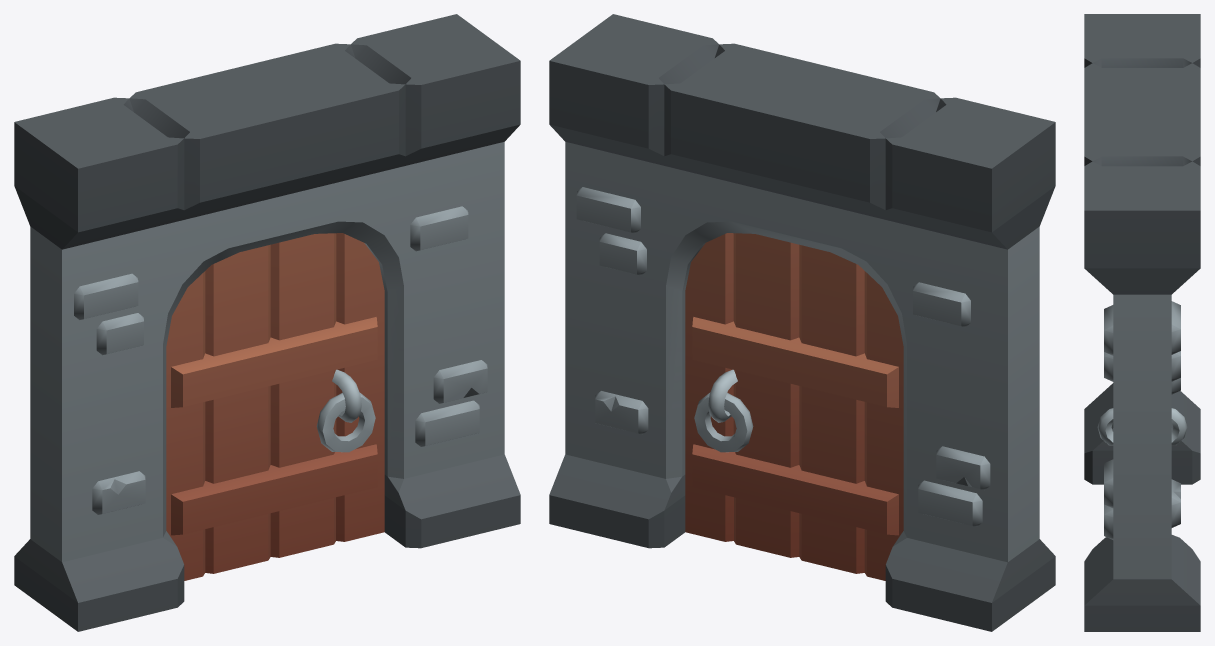
File: wall_doorway.glb
The picture shows the model from 3 angles, left to right: view 1: azimuth 30°, elevation 25°; view 2: azimuth 150°, elevation 25°; view 3: azimuth 270°, elevation 25°; orthographic projection. The views are drawn at different scales.
Visible parts, largest first — view 1: Cube.13132, wall_doorway_door; view 2: Cube.13132, wall_doorway_door; view 3: Cube.13132, wall_doorway_door.
Part boxes in pixels (x1,y1,x2,y2): Cube.13132: (14,14,520,631); wall_doorway_door: (166,233,384,580); Cube.13132: (549,14,1055,631); wall_doorway_door: (685,233,903,580); Cube.13132: (1084,14,1200,631); wall_doorway_door: (1097,408,1187,445).
Size of the model in its own units: 4 by 4 by 1.
Materials: 1 (1 with a texture image).
